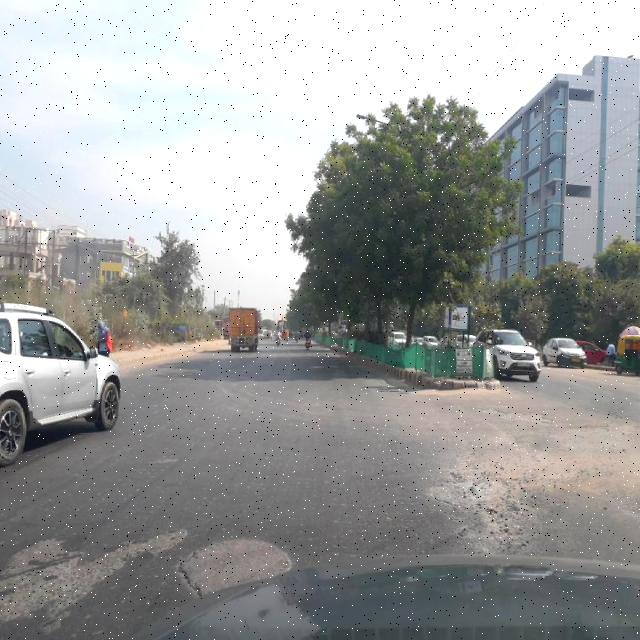D40: (474, 400, 554, 434)
